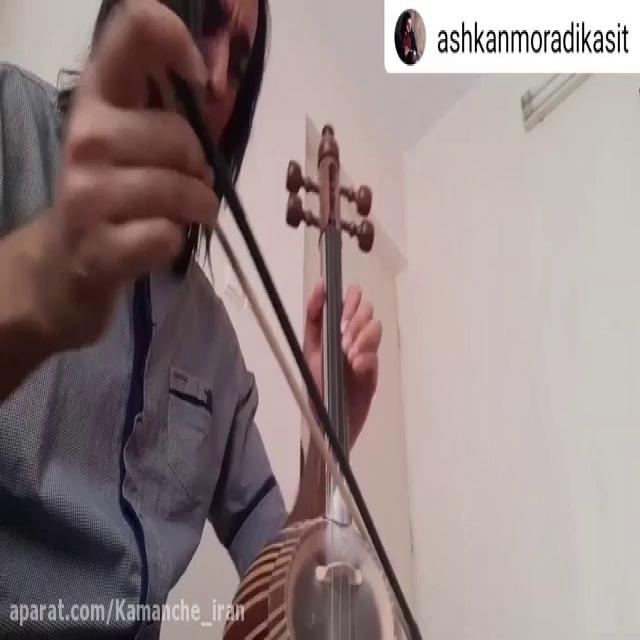Kamanche: (212, 99, 415, 640)
